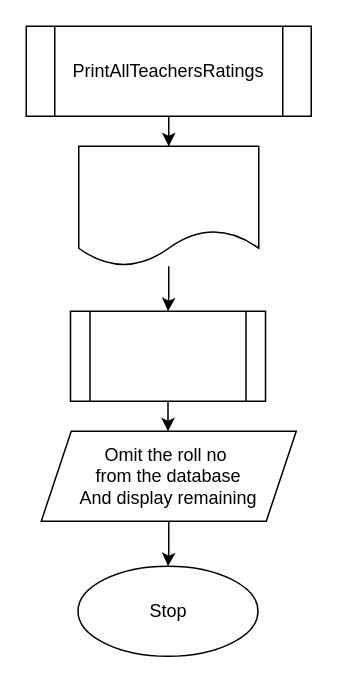
The diagram is 338 pixels wide and 683 high, and some of its shapes have lost their labels. The box of each missing label's shape, as (x1, y1, x2, y2) in pixels:
Extract Data From Students.txt: (77, 145, 259, 266)
TeachersHeading: (69, 310, 266, 401)
